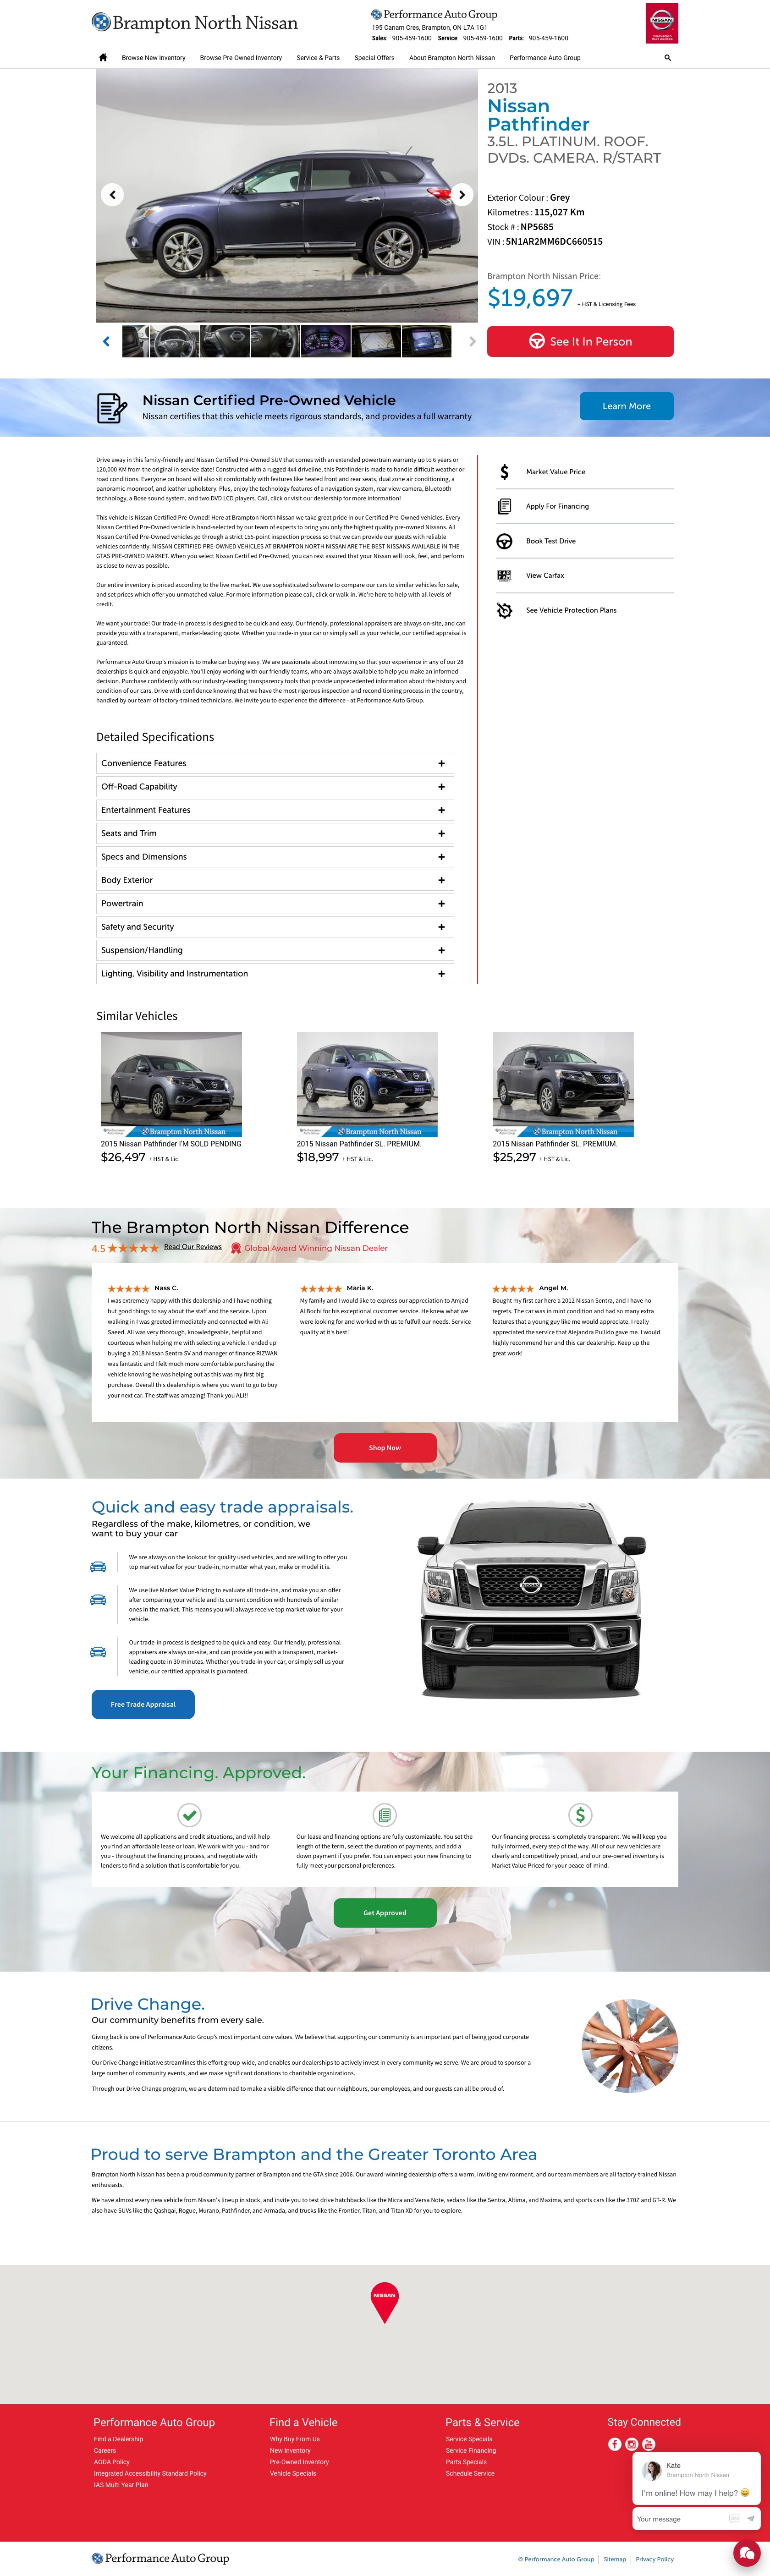car: (470, 335, 478, 348)
